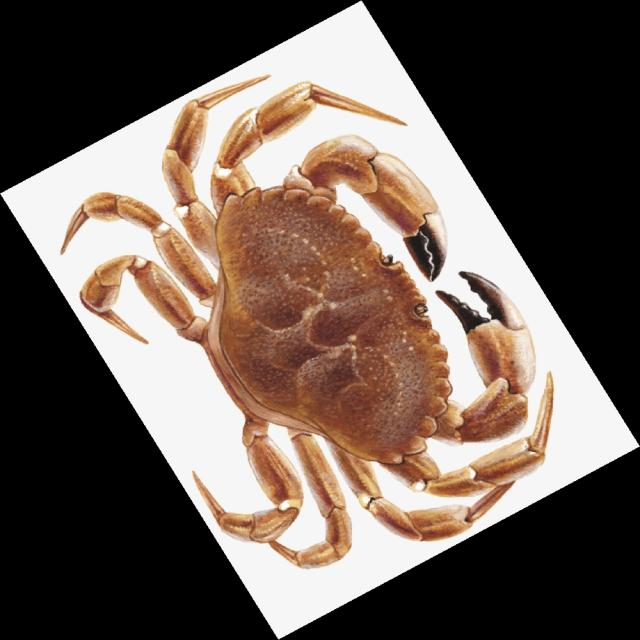Native Jonah crab: (63, 81, 552, 567)
